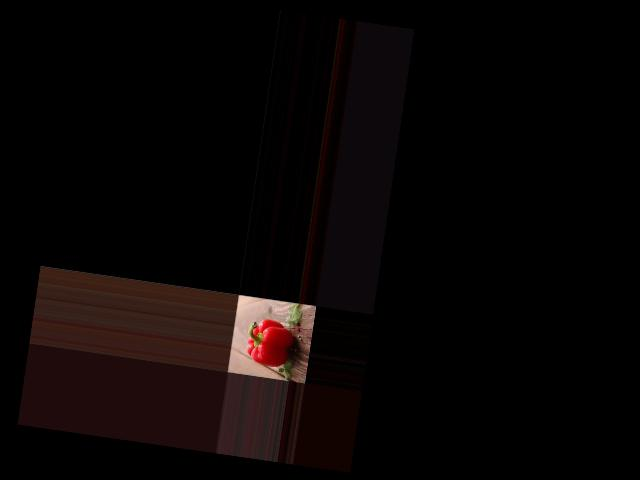bell_pepper: (240, 313, 297, 372)
